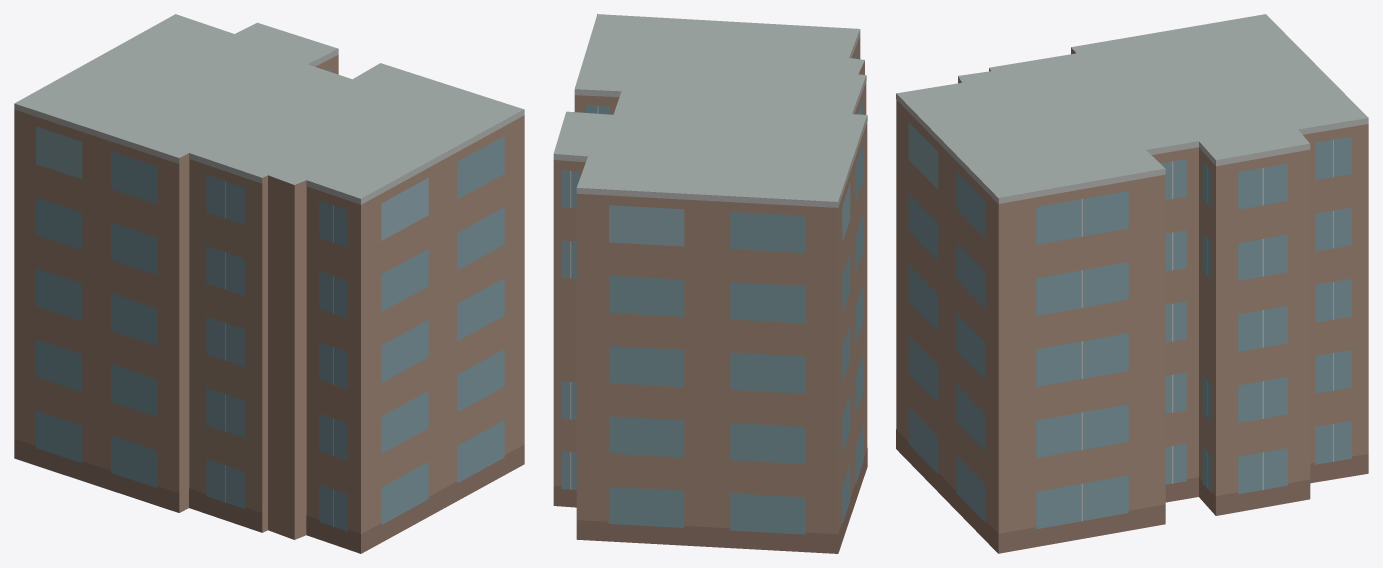
The model's file is survey-upis-32611726.glb.
The picture shows the model from 3 angles, left to right: view 1: azimuth 30°, elevation 25°; view 2: azimuth 150°, elevation 25°; view 3: azimuth 270°, elevation 25°; orthographic projection.
Parts seen in each view (by area): view 1: survey-upis-32611726.tmp; view 2: survey-upis-32611726.tmp; view 3: survey-upis-32611726.tmp.
Boxes of the visible parts, box(x1,y1,x2,y2) form: survey-upis-32611726.tmp: box(14, 14, 524, 553); survey-upis-32611726.tmp: box(553, 14, 867, 553); survey-upis-32611726.tmp: box(896, 14, 1368, 553).
Bounding box in the file's own units: 16.12 × 14.5 × 17.47.
